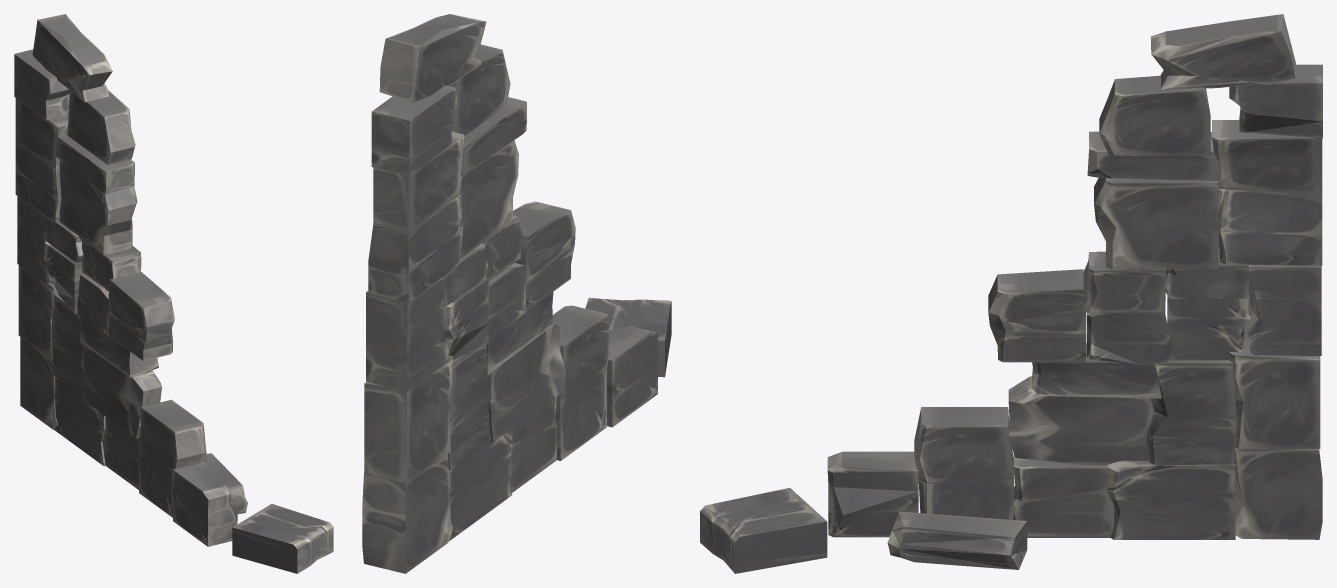
File: shiqiang02.fbx
The picture shows the model from 3 angles, left to right: view 1: azimuth 30°, elevation 25°; view 2: azimuth 150°, elevation 25°; view 3: azimuth 270°, elevation 25°; orthographic projection. The views are drawn at different scales.
Parts seen in each view (by area): view 1: duanqiang01; view 2: duanqiang01; view 3: duanqiang01.
Part boxes in pixels (x1=…): duanqiang01: x1=14, y1=14, x2=333, y2=573; duanqiang01: x1=362, y1=14, x2=671, y2=573; duanqiang01: x1=700, y1=14, x2=1322, y2=573.
Bounding box in the file's own units: 33.88 × 141 × 157.
Materials: 1 (1 with a texture image).
